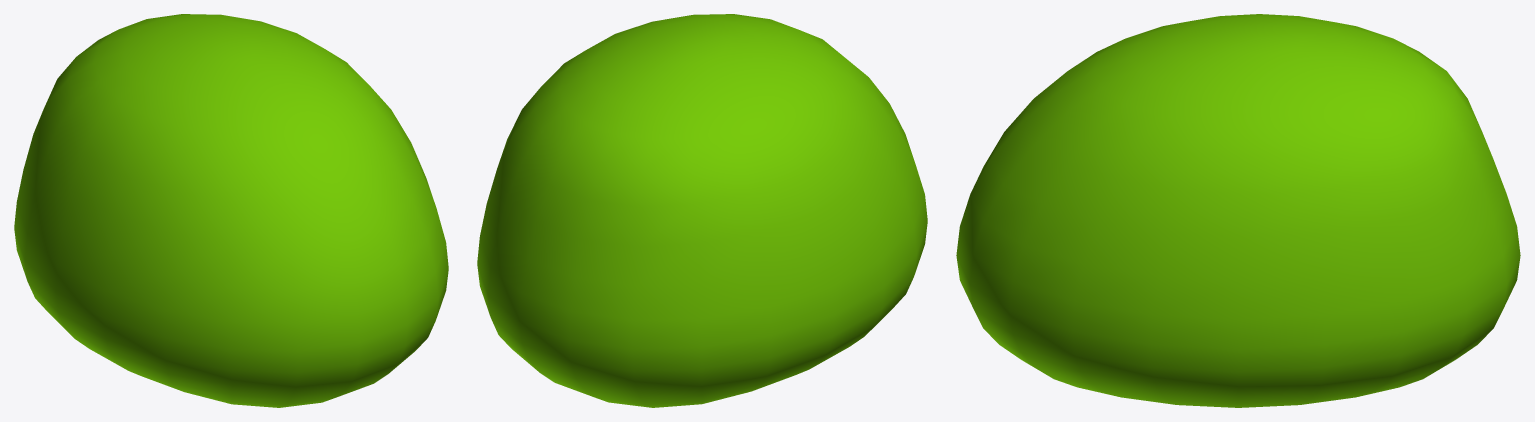
File: Bush.fbx
3 renders of one model, left to right at view 1: azimuth 30°, elevation 25°; view 2: azimuth 150°, elevation 25°; view 3: azimuth 270°, elevation 25°, orthographic. The views are drawn at different scales.
Visible parts, largest first — view 1: pSphere1; view 2: pSphere1; view 3: pSphere1.
Part boxes in pixels (left/top/right/bottom): pSphere1: left=14, top=14, right=448, bottom=407; pSphere1: left=477, top=14, right=927, bottom=407; pSphere1: left=956, top=14, right=1520, bottom=407.
Bounding box in the file's own units: 5.34 × 4.44 × 6.76.
